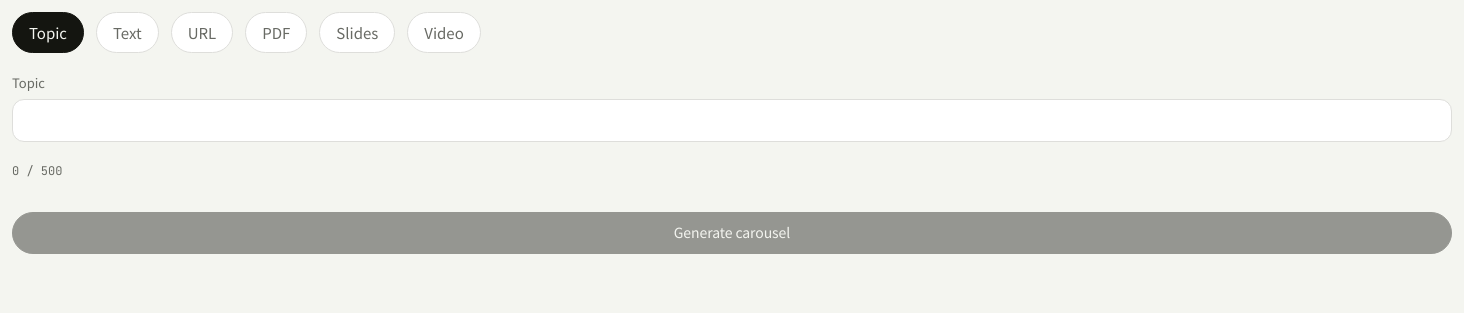
Test: SourceInput › asks a signed-out reader to sign in rather than guessing at a link
The width and height of the screenshot is (1464, 313).
Click the tab "URL": (202, 33) [171,12,233,53]
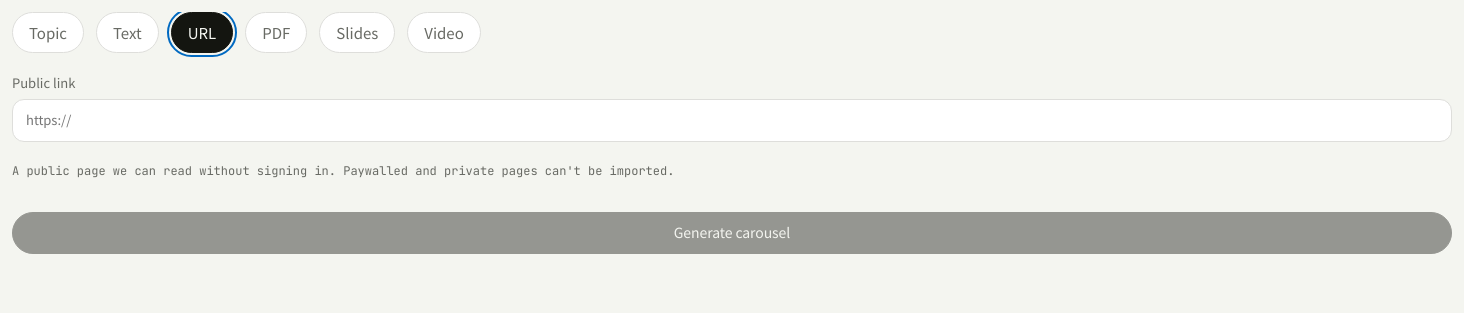
In the field labelled "Public link": (732, 120) [12,99,1452,142], type "https://example.com/post"
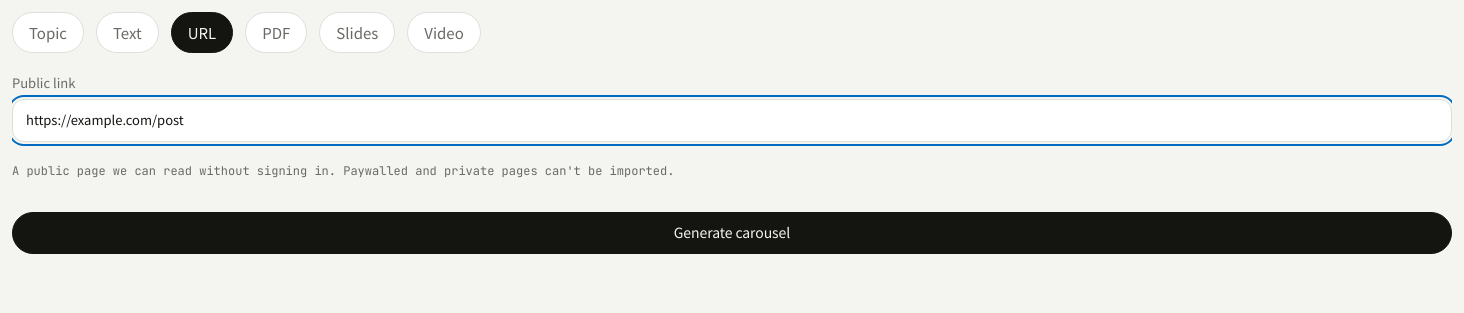
Click the button "Generate carousel": (732, 233) [12,212,1452,254]
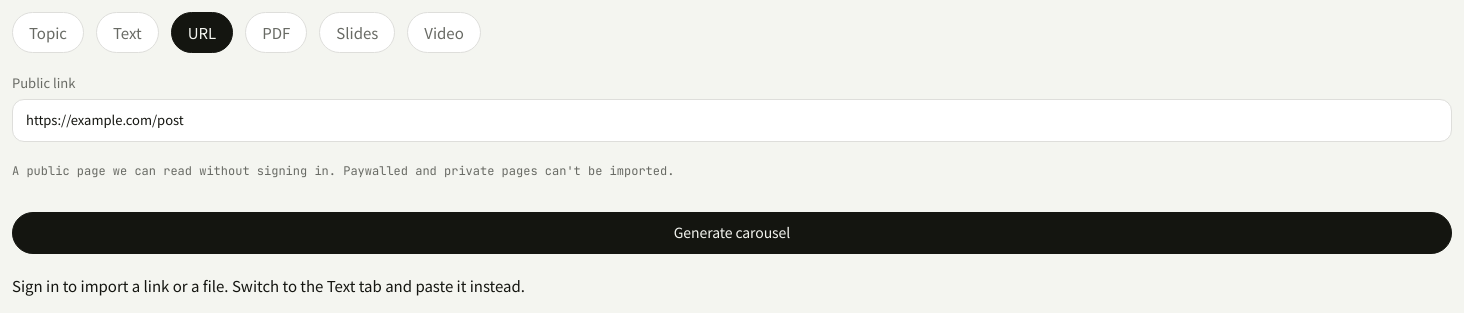
Now the message shows "Sign in", box [12,275,228,296]
